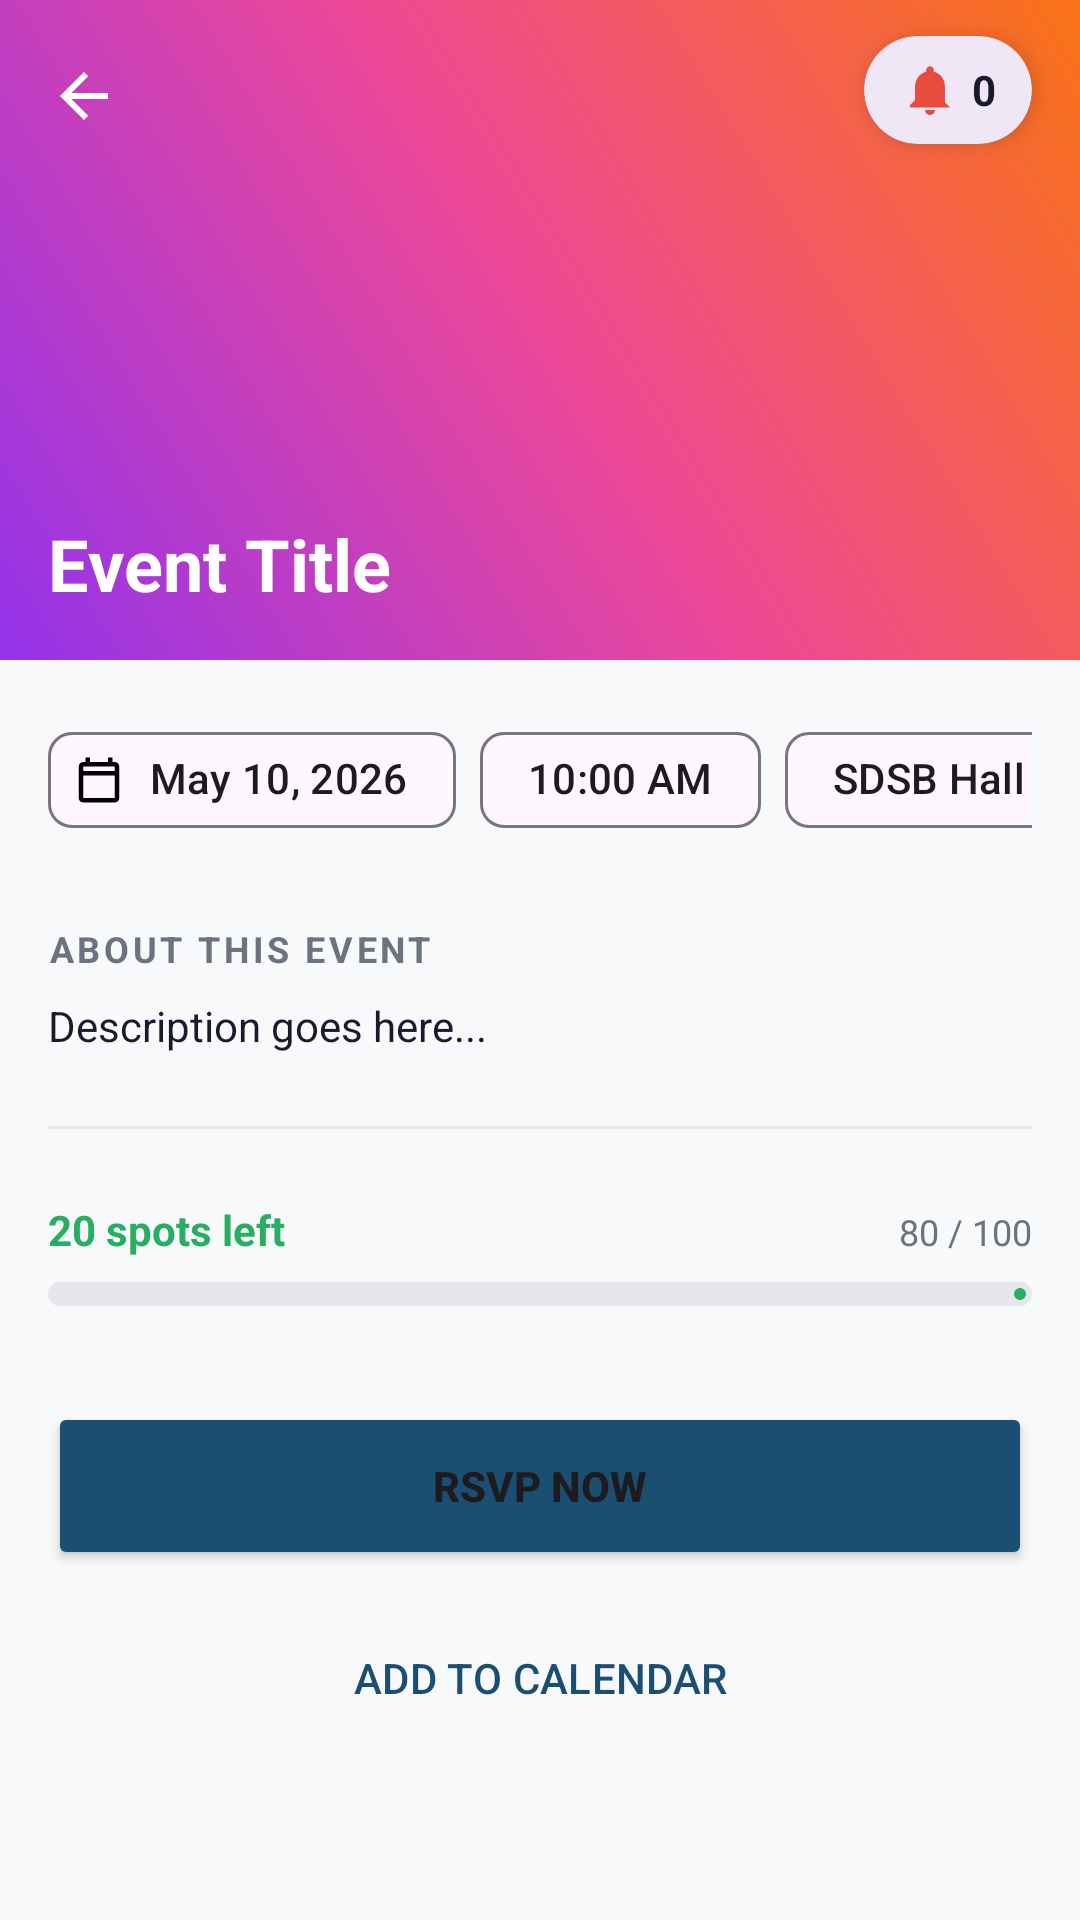

Locate icon controls on the screen. Image size 1080x1920, boxes as (x1, y1, x2, y2).
notifications: (910, 66, 950, 115)
